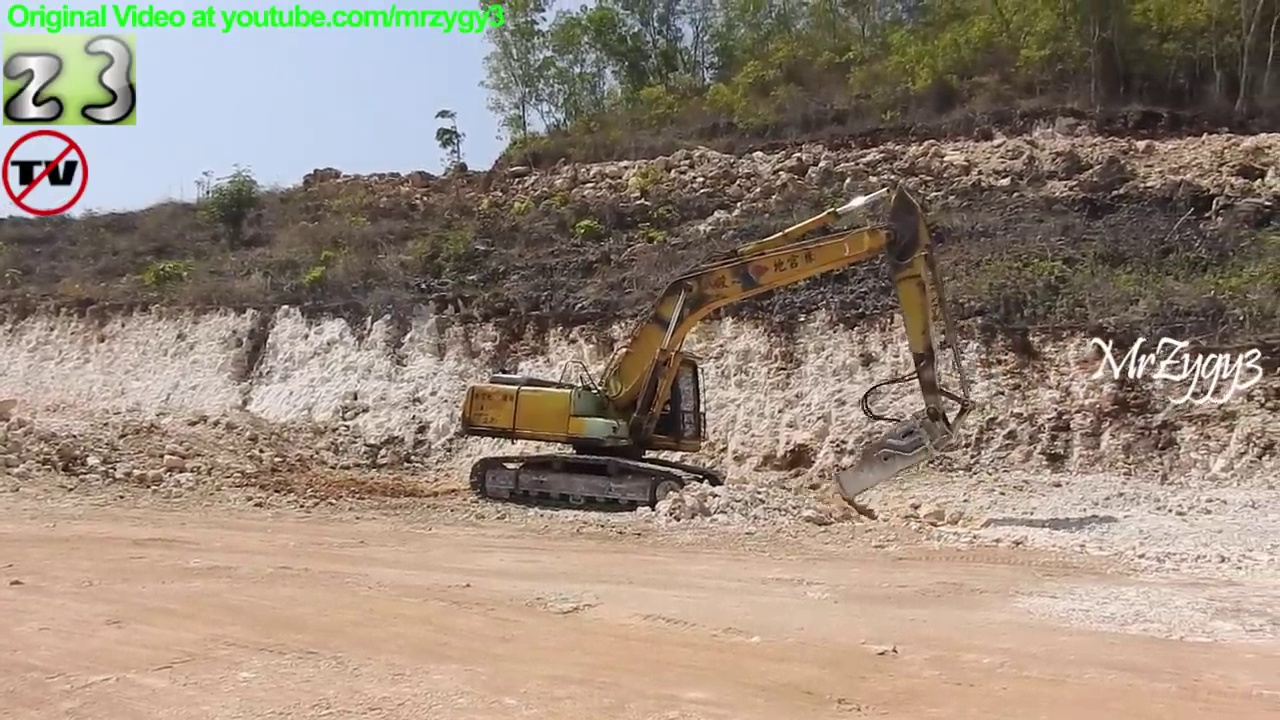excavator breaker: (454, 179, 979, 524)
